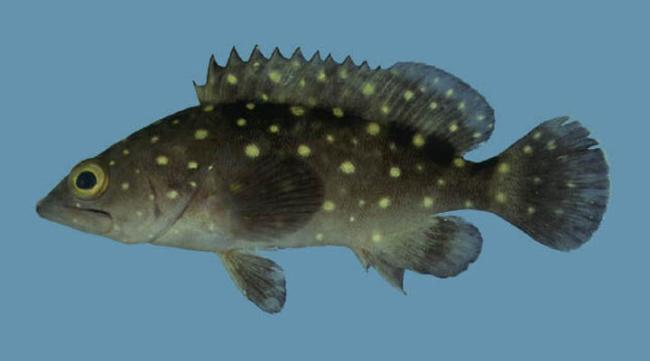fish: (36, 44, 611, 314)
